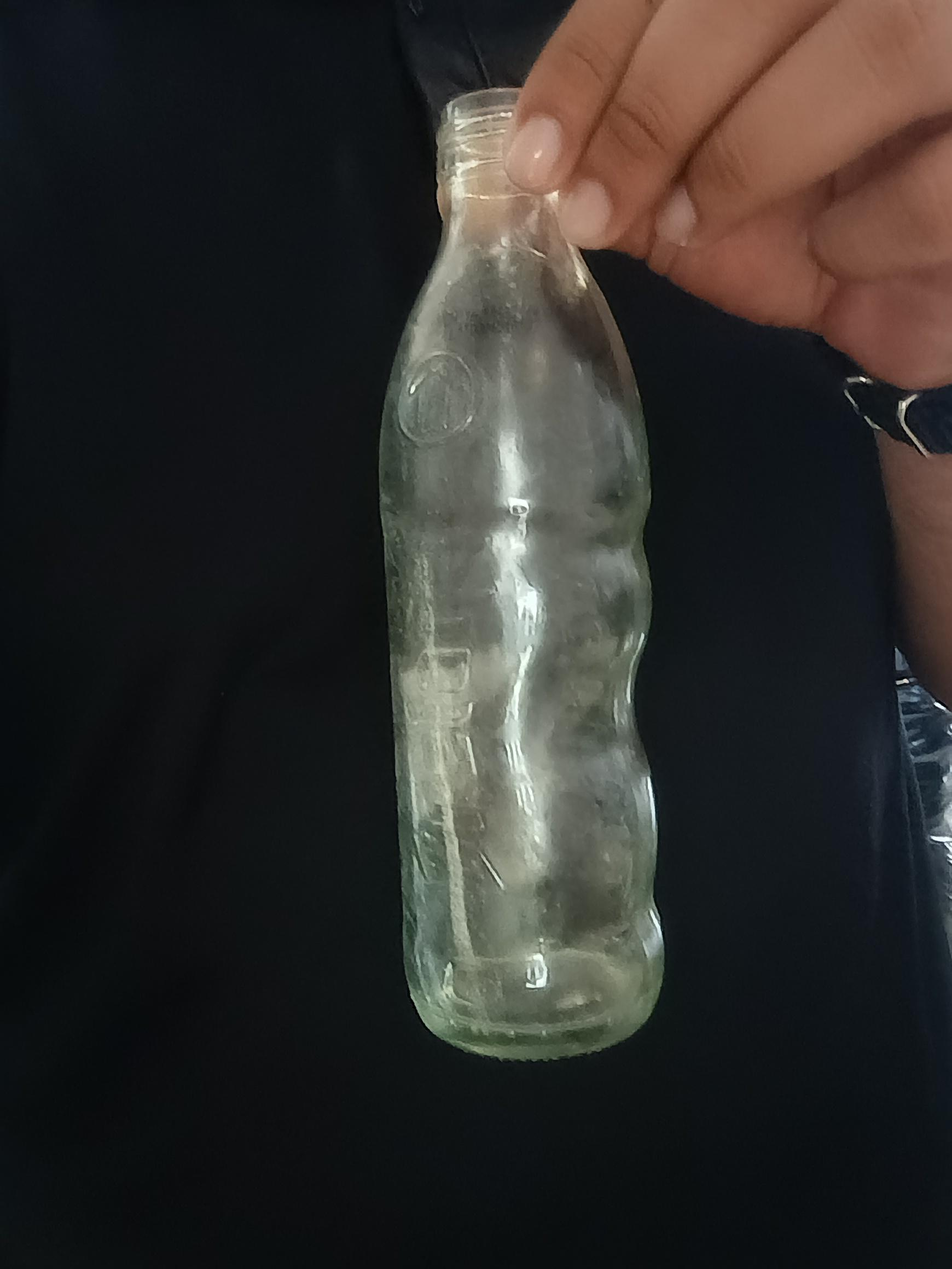Vidrio: (377, 88, 659, 1062)
